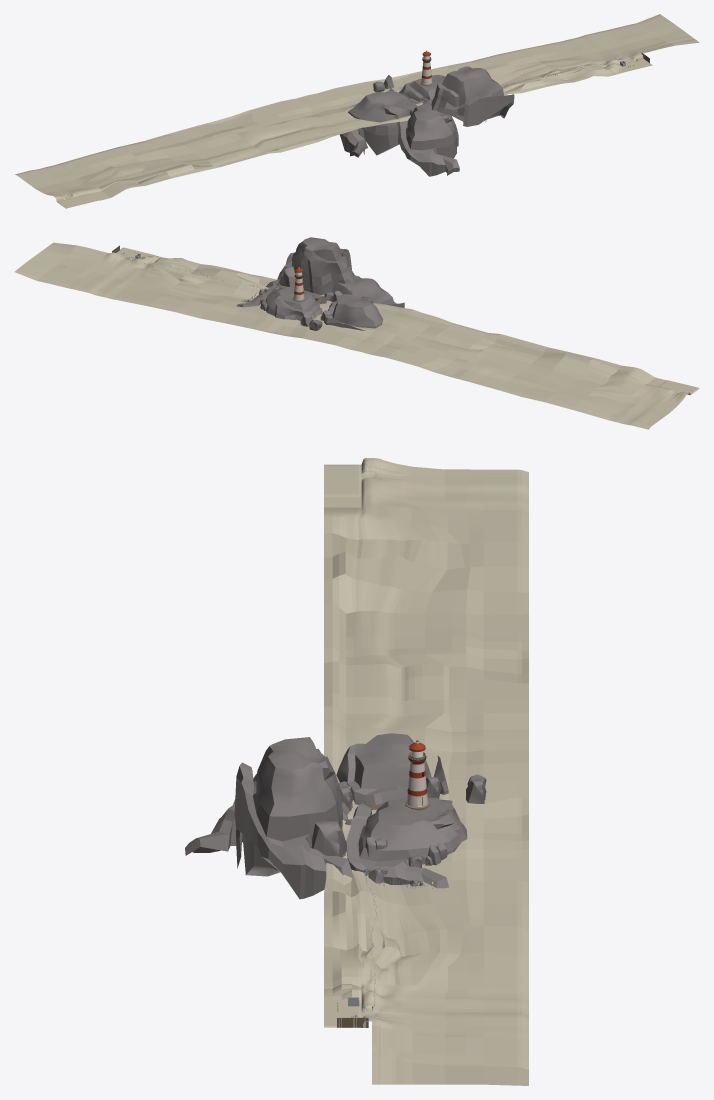
Rendered from terrain test.fbx.
3 renders of one model, top to bottom at view 1: azimuth 30°, elevation 25°; view 2: azimuth 150°, elevation 25°; view 3: azimuth 270°, elevation 25°, orthographic. The views are drawn at different scales.
Visible parts, largest first — view 1: landscape_test; view 2: landscape_test; view 3: landscape_test.
Part boxes in pixels (x1,y1,x2,y2): landscape_test: [15, 14, 699, 208]; landscape_test: [14, 237, 699, 429]; landscape_test: [185, 458, 528, 1085].
Size of the model in its own units: 546 by 65.12 by 128.
